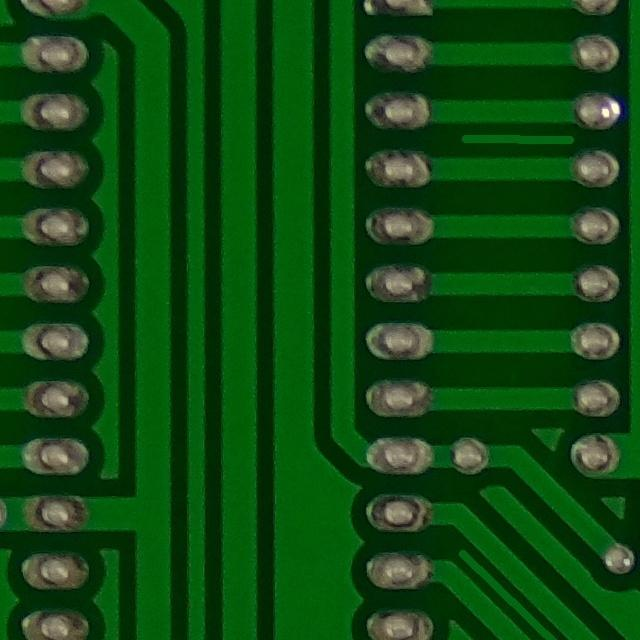spurious_copper: (450, 538, 573, 640), (445, 116, 589, 167)
